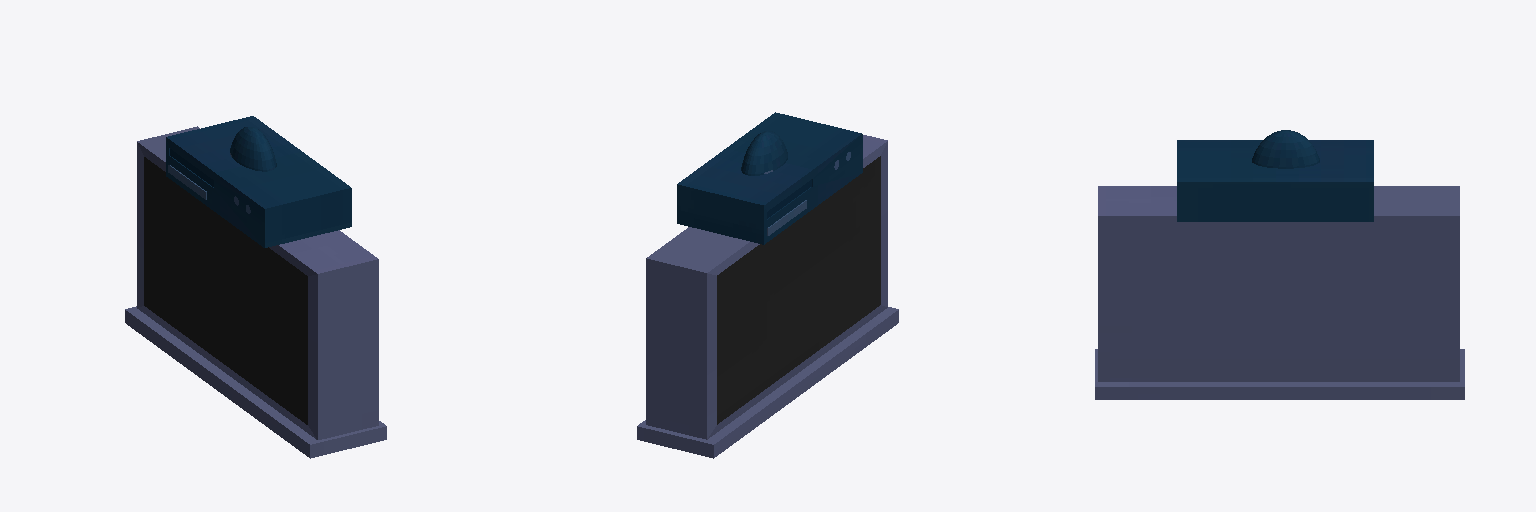
3 views of the same model, side by side, from view 1: azimuth 30°, elevation 25°; view 2: azimuth 150°, elevation 25°; view 3: azimuth 270°, elevation 25° (orthographic).
Parts seen in each view (by area): view 1: Plano; view 2: Plano; view 3: Plano.
Boxes of the visible parts, box(x1,y1,x2,y2) form: Plano: box(125, 116, 386, 458); Plano: box(637, 112, 898, 458); Plano: box(1095, 130, 1464, 399).
Size of the model in its own units: 1.72 by 4.66 by 6.25.
1 materials, 1 textured.